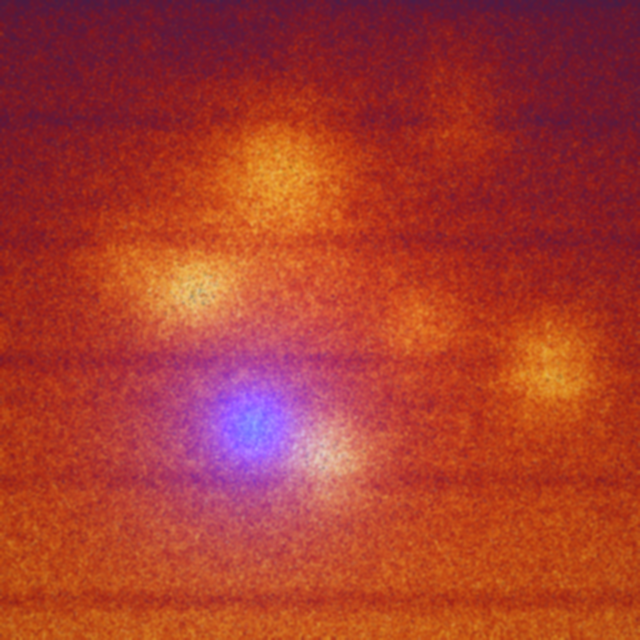nozzle: (210, 383, 304, 468)
